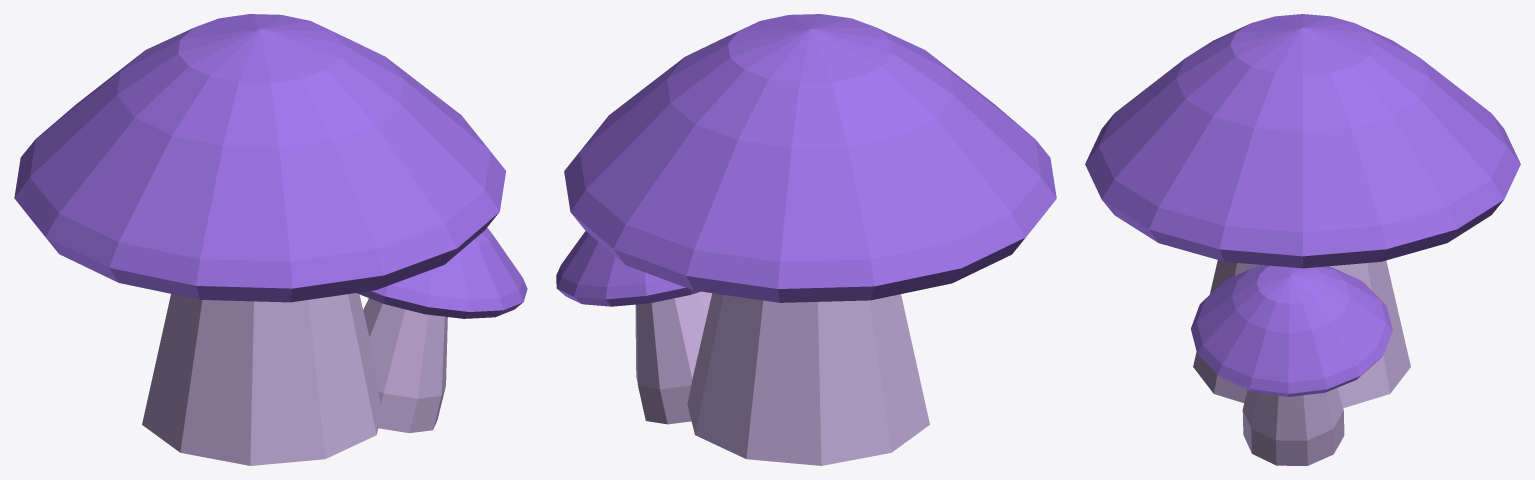
Rendered from Pilz_Together.fbx.
3 renders of one model, left to right at view 1: azimuth 30°, elevation 25°; view 2: azimuth 150°, elevation 25°; view 3: azimuth 270°, elevation 25°, orthographic. The views are drawn at different scales.
Parts seen in each view (by area): view 1: Pilz_1_Top, Pilz_1_Bot, Pilz_2_Bot, Pilz_2_Top; view 2: Pilz_1_Top, Pilz_1_Bot, Pilz_2_Bot, Pilz_2_Top; view 3: Pilz_1_Top, Pilz_2_Top, Pilz_2_Bot, Pilz_1_Bot.
Part boxes in pixels (x1,y1,x2,y2): Pilz_1_Top: [14, 14, 505, 302]; Pilz_1_Bot: [142, 293, 382, 465]; Pilz_2_Bot: [363, 298, 447, 433]; Pilz_2_Top: [356, 227, 527, 318]; Pilz_1_Top: [564, 14, 1056, 302]; Pilz_1_Bot: [687, 293, 929, 465]; Pilz_2_Bot: [635, 291, 712, 424]; Pilz_2_Top: [556, 231, 700, 306]; Pilz_1_Top: [1085, 14, 1520, 268]; Pilz_2_Top: [1191, 265, 1392, 396]; Pilz_2_Bot: [1242, 388, 1344, 465]; Pilz_1_Bot: [1193, 260, 1410, 408].
Size of the model in its own units: 35.11 by 30.53 by 32.73.
